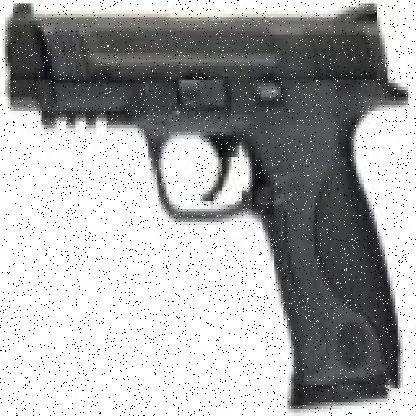pistol: (13, 3, 400, 412)
